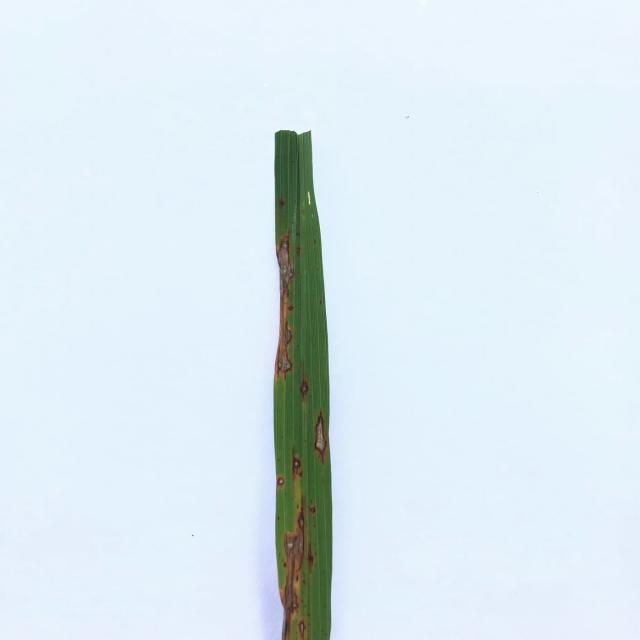leaf blast: (280, 512, 304, 612), (276, 234, 294, 301), (274, 321, 293, 381), (314, 410, 328, 466), (298, 619, 309, 640), (298, 380, 310, 399), (292, 456, 301, 469), (276, 477, 285, 488), (308, 506, 316, 515)
